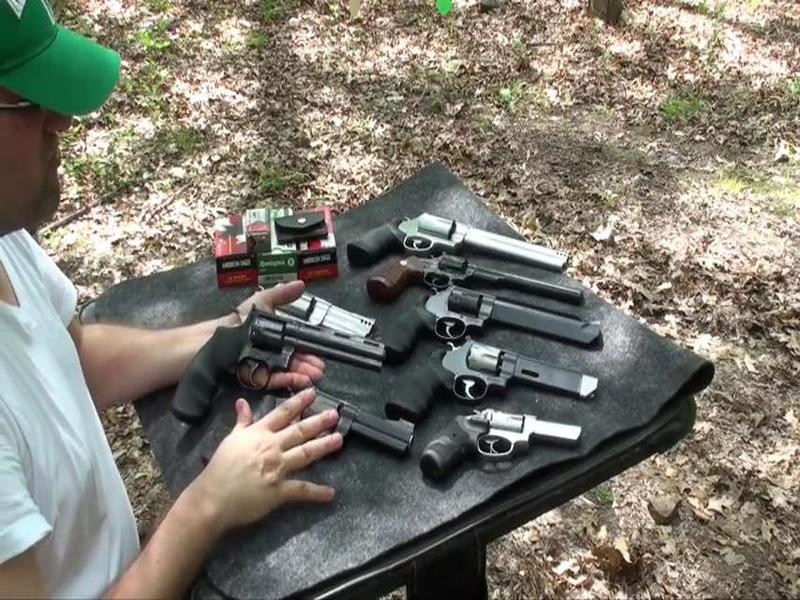Revolver: (169, 302, 390, 447)
